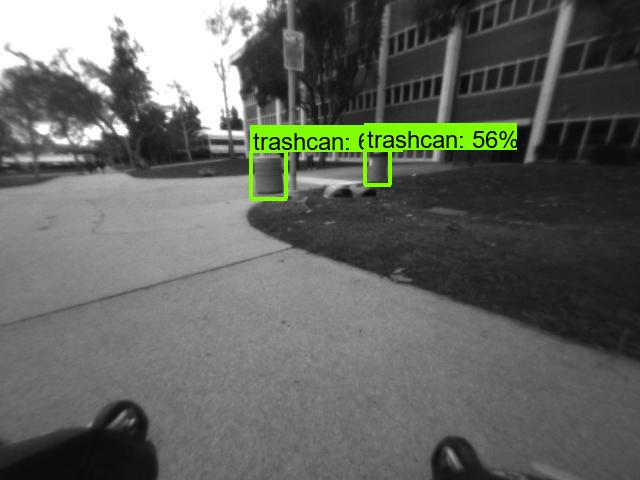trashcan: (251, 156, 286, 200), (363, 148, 389, 182)
